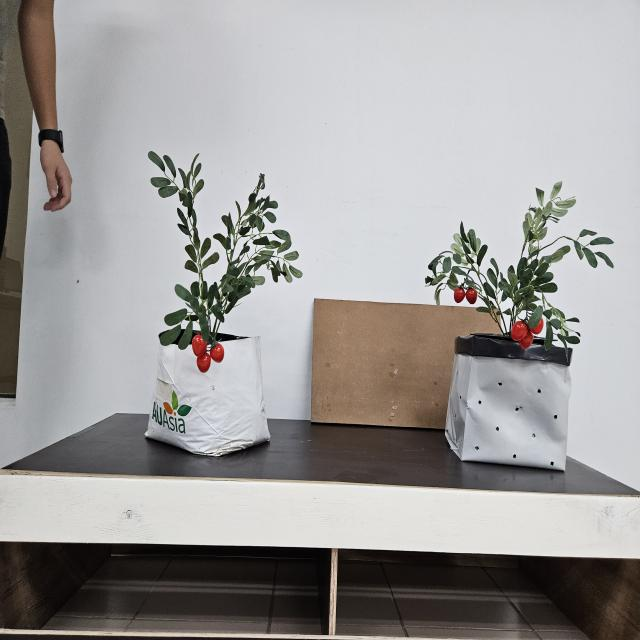Soilbag: (444, 349, 573, 474), (144, 336, 271, 457)
Tomato: (191, 333, 224, 374), (511, 315, 544, 349), (454, 285, 478, 304)
plant: (147, 151, 303, 374), (424, 181, 614, 351)
